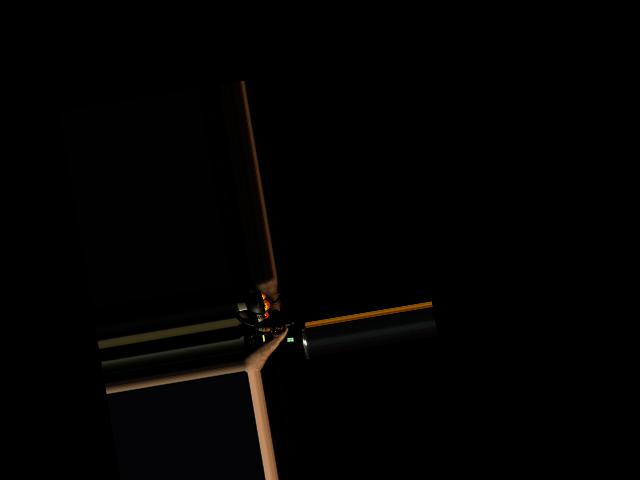beer: (254, 320, 288, 339)
